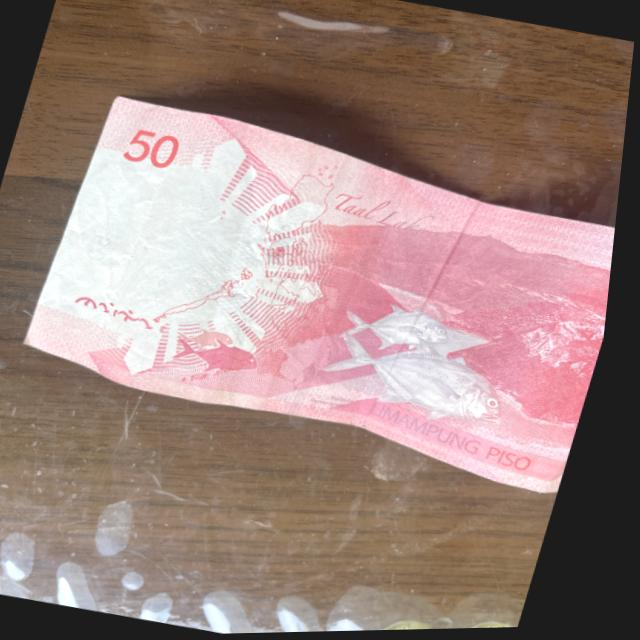50_maliputo: (312, 285, 544, 436)
50_maliputo_watermark: (160, 316, 278, 391)
value_watermark: (78, 220, 126, 273)
watermark: (48, 160, 240, 313)
